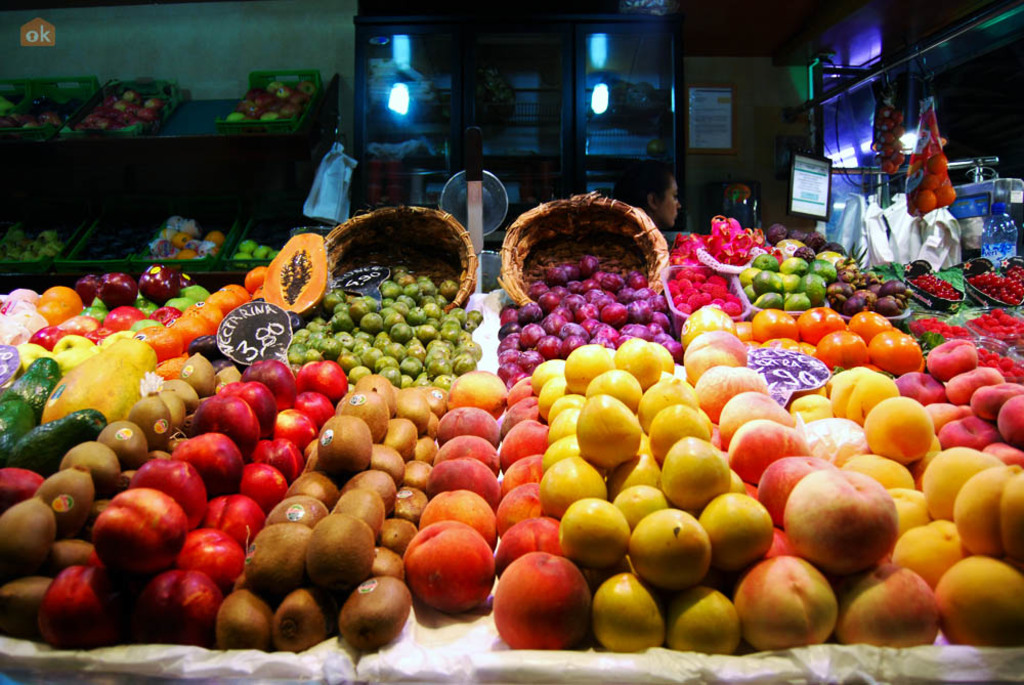Apple: (29, 356, 354, 639), (686, 325, 950, 653), (394, 386, 615, 649)
